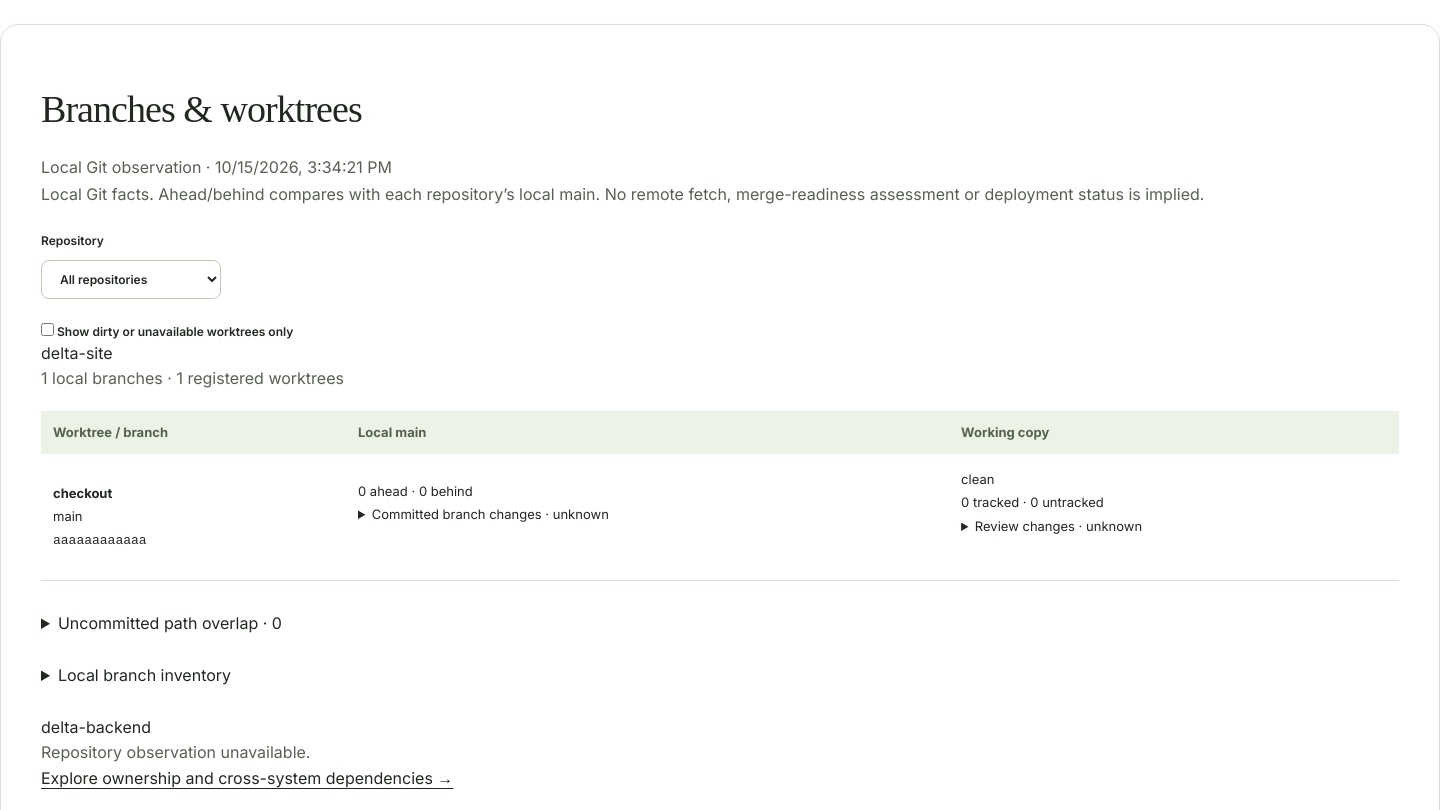
Test: filters real observations and keeps unknown source coverage visible
The width and height of the screenshot is (1440, 810).
Expected: the text "Repository observation unavailable." is shown, [41,742,310,762]
Select "site" in the dropdown labelled "Repository" at [131, 280], box [41,260,221,299]
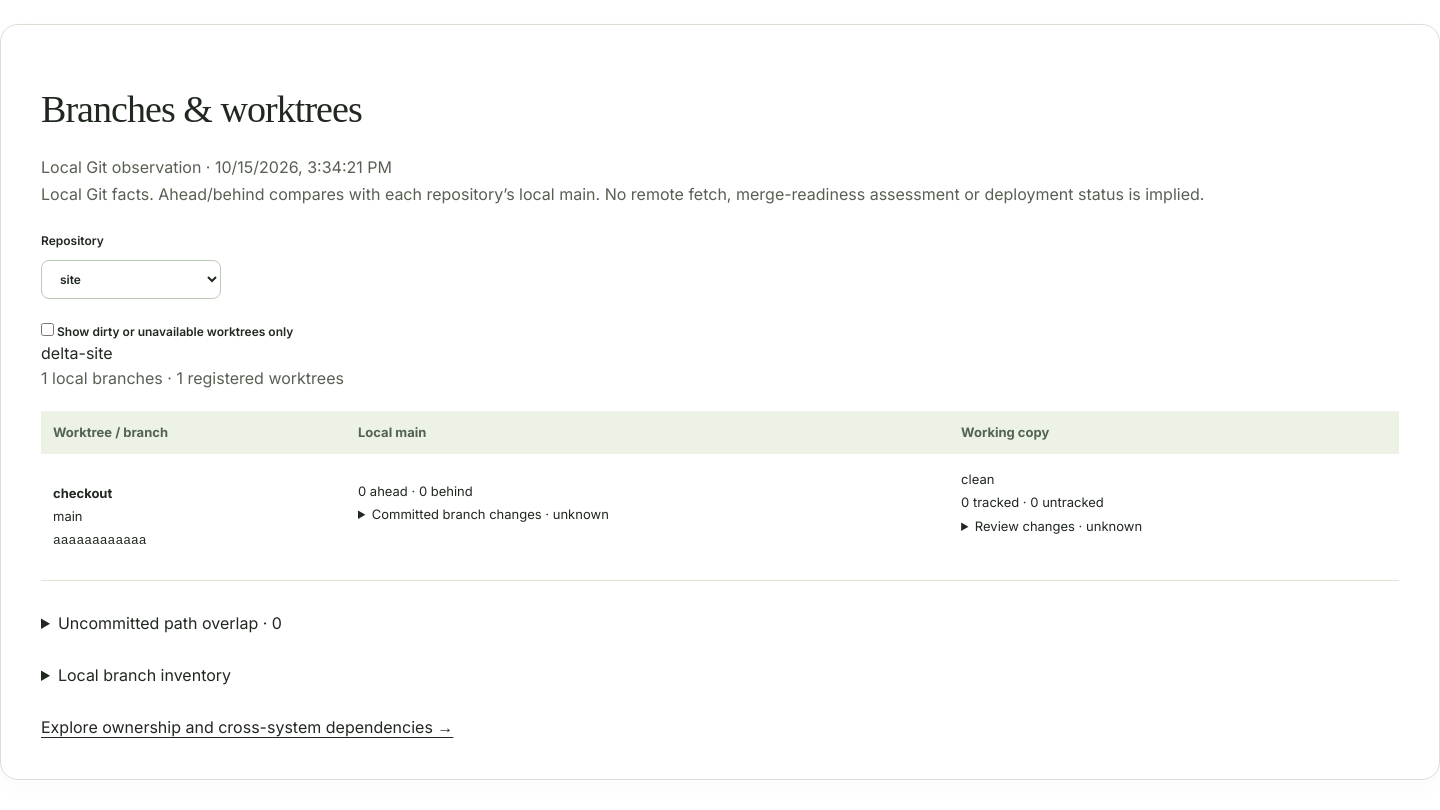
Expected: the text "0 ahead · 0 behind" is shown, [358,483,473,499]
Now the text "Repository observation unavailable." is gone
